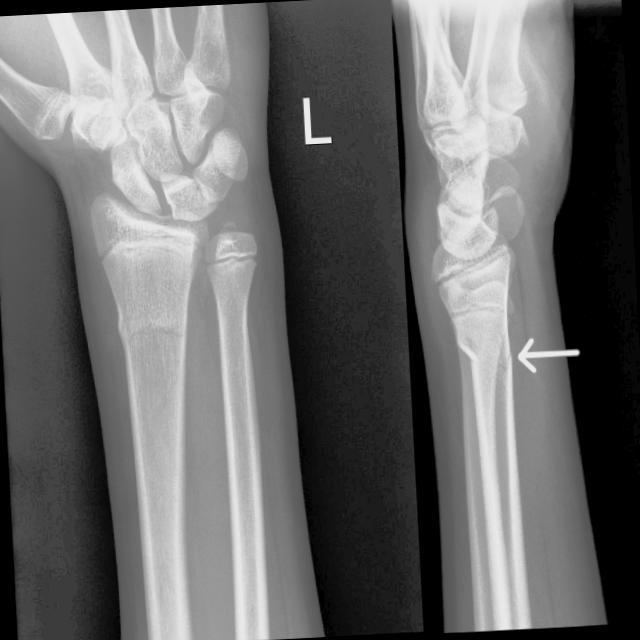GreenStick Fracture: (494, 331, 519, 398)
